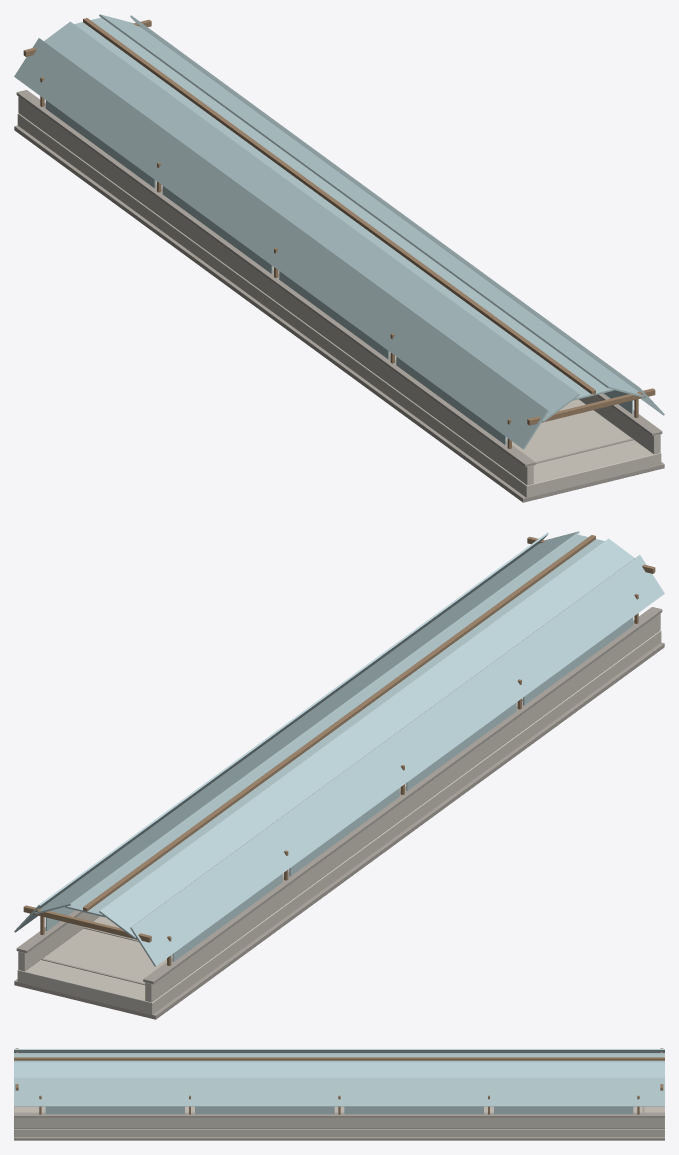
Rendered from bridge.glb.
The picture shows the model from 3 angles, top to bottom: view 1: azimuth 30°, elevation 25°; view 2: azimuth 150°, elevation 25°; view 3: azimuth 270°, elevation 25°; orthographic projection. The views are drawn at different scales.
Parts seen in each view (by area): view 1: RoofGlass, RoofGlass.001, Deck, RoofGlass.002, RoofGlass.003, Parapet, DeckEdge, ParapetCap, RidgeBeam, RoofGlass.004, Parapet.001, SideGlass.001 (+4 smaller); view 2: RoofGlass, RoofGlass.001, Deck, RoofGlass.002, RoofGlass.003, Parapet, DeckEdge, ParapetCap, RidgeBeam, RoofGlass.004, Parapet.001, SideGlass (+4 smaller); view 3: RoofGlass.004, RoofGlass.003, Parapet.001, Deck, RoofGlass.002, ParapetCap.001, DeckEdge, RoofGlass, RidgeBeam, RoofGlass.001, SideGlass.005, SideGlass.006 (+2 smaller).
Boxes of the visible parts, x1,y1,x2,y2 form: RoofGlass: [14, 38, 548, 449]; RoofGlass.001: [44, 21, 579, 421]; Deck: [17, 113, 661, 498]; RoofGlass.002: [74, 17, 613, 400]; RoofGlass.003: [99, 14, 644, 397]; Parapet: [18, 96, 533, 485]; DeckEdge: [14, 125, 664, 502]; ParapetCap: [16, 90, 535, 467]; RidgeBeam: [83, 18, 595, 394]; RoofGlass.004: [130, 15, 664, 415]; Parapet.001: [579, 395, 660, 454]; SideGlass.001: [279, 271, 389, 359]; RoofGlass: [130, 555, 664, 966]; RoofGlass.001: [99, 538, 634, 938]; Deck: [17, 630, 661, 1015]; RoofGlass.002: [65, 534, 604, 917]; RoofGlass.003: [34, 531, 579, 914]; Parapet: [145, 613, 660, 1002]; DeckEdge: [14, 642, 664, 1019]; ParapetCap: [143, 607, 662, 984]; RidgeBeam: [83, 535, 595, 911]; RoofGlass.004: [14, 532, 548, 932]; Parapet.001: [18, 912, 99, 971]; SideGlass: [523, 617, 633, 705]; RoofGlass.004: [14, 1077, 664, 1106]; RoofGlass.003: [14, 1062, 664, 1077]; Parapet.001: [14, 1117, 664, 1128]; Deck: [14, 1106, 664, 1136]; RoofGlass.002: [14, 1054, 664, 1062]; ParapetCap.001: [14, 1112, 664, 1117]; DeckEdge: [14, 1137, 664, 1140]; RoofGlass: [14, 1049, 664, 1052]; RidgeBeam: [14, 1057, 664, 1060]; RoofGlass.001: [14, 1053, 664, 1054]; SideGlass.005: [195, 1106, 334, 1114]; SideGlass.006: [344, 1106, 483, 1114].
Bounding box in the file's own units: 6.32 × 4.05 × 39.2.
